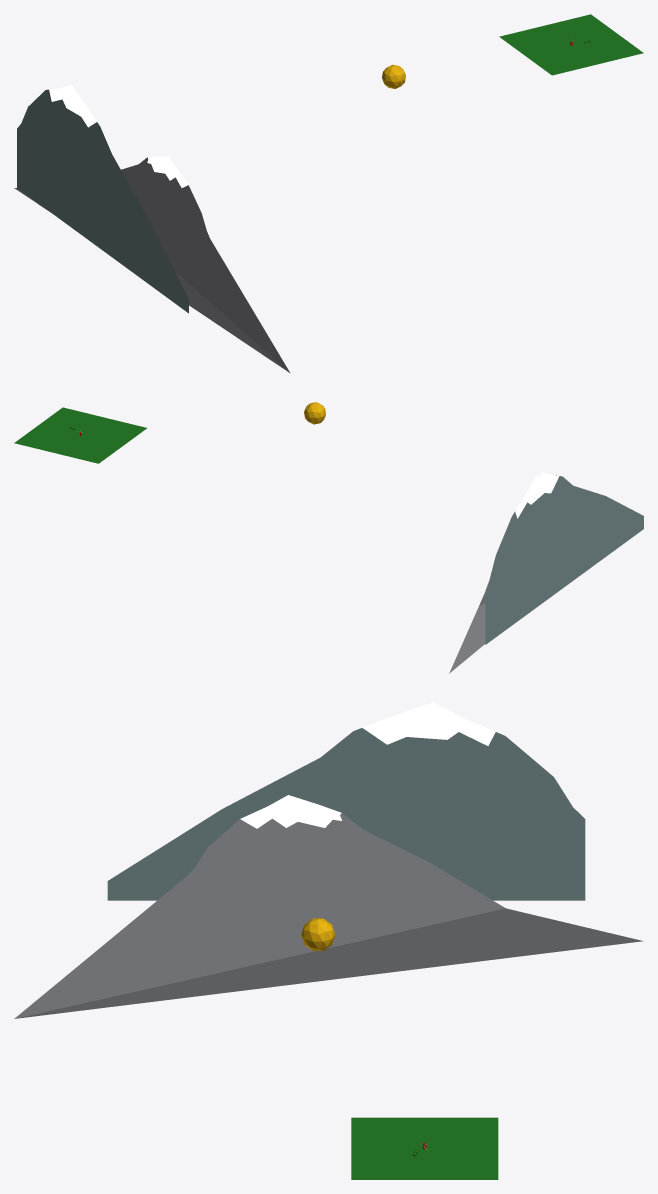
The model's file is Windmill.glb.
The picture shows the model from 3 angles, top to bottom: view 1: azimuth 30°, elevation 25°; view 2: azimuth 150°, elevation 25°; view 3: azimuth 270°, elevation 25°; orthographic projection. The views are drawn at different scales.
Visible parts, largest first — view 1: MountainBack, MountainFront, ground; view 2: MountainBack, ground, MountainFront, sunSphere; view 3: MountainFront, MountainBack, ground, sunSphere.
Part boxes in pixels (bbox=[...]): MountainBack: bbox=[17, 85, 188, 313]; MountainFront: bbox=[14, 156, 290, 373]; ground: bbox=[499, 14, 643, 75]; MountainBack: bbox=[485, 475, 643, 644]; ground: bbox=[14, 407, 146, 463]; MountainFront: bbox=[449, 472, 556, 673]; sunSphere: bbox=[304, 402, 325, 424]; MountainFront: bbox=[14, 795, 643, 1018]; MountainBack: bbox=[107, 702, 585, 900]; ground: bbox=[351, 1117, 498, 1179]; sunSphere: bbox=[301, 918, 335, 950].
Bounding box in the file's own units: 544 × 187 × 394.
